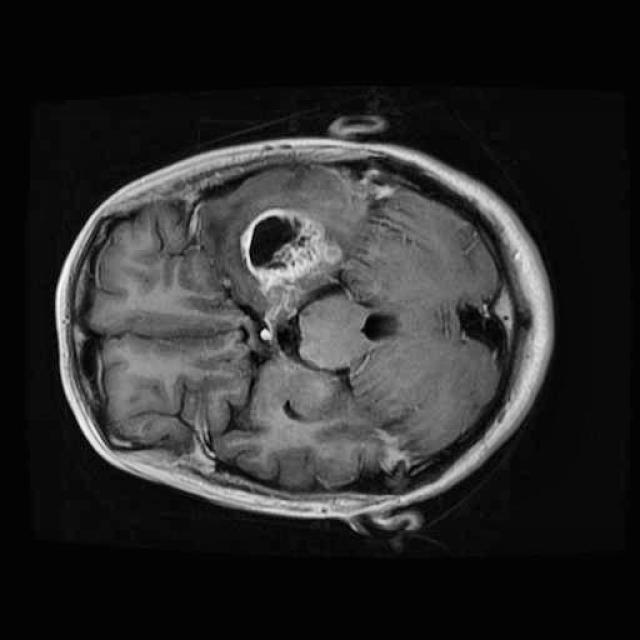Tumor: (232, 198, 352, 328)
